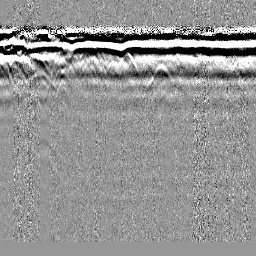cavity: (115, 50, 137, 72)
